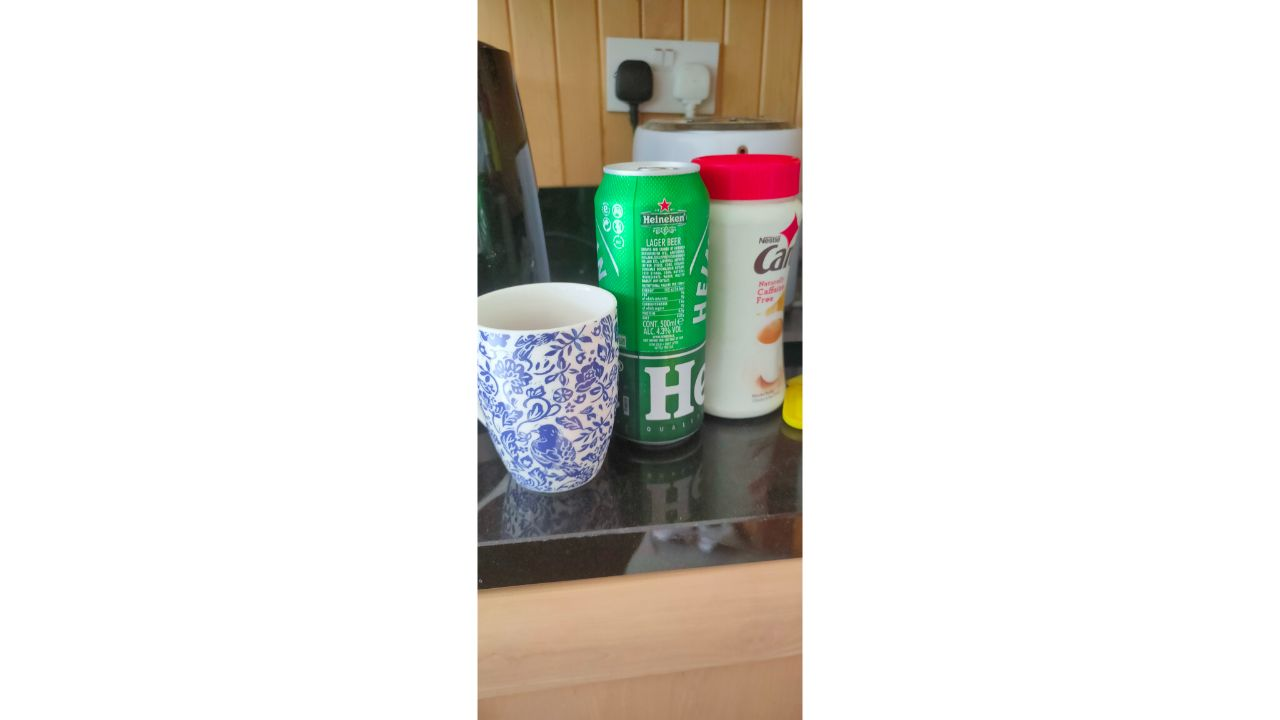Can: (593, 163, 715, 449)
